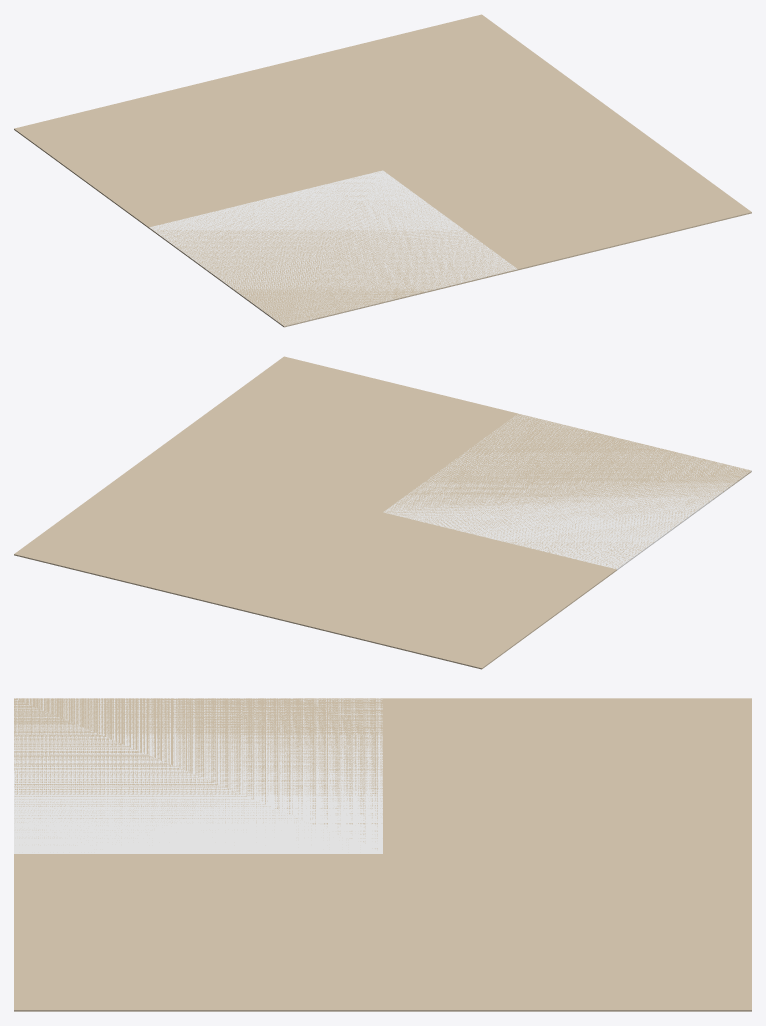
The model's file is CreamFloor.glb.
The picture shows the model from 3 angles, top to bottom: view 1: azimuth 30°, elevation 25°; view 2: azimuth 150°, elevation 25°; view 3: azimuth 270°, elevation 25°; orthographic projection. The views are drawn at different scales.
Parts seen in each view (by area): view 1: whitePlain.001, WhitesmallPlain.020; view 2: whitePlain.001, WhitesmallPlain.020; view 3: whitePlain.001, WhitesmallPlain.020.
Part boxes in pixels (x1,y1,x2,y2): whitePlain.001: (14, 14, 751, 327); WhitesmallPlain.020: (149, 170, 517, 326); whitePlain.001: (14, 356, 751, 669); WhitesmallPlain.020: (383, 414, 751, 570); whitePlain.001: (14, 698, 751, 1011); WhitesmallPlain.020: (14, 698, 382, 853).
Size of what is drawn, in the model's own units: 4 by 0.01 by 4.
Materials: 1 (1 with a texture image).
